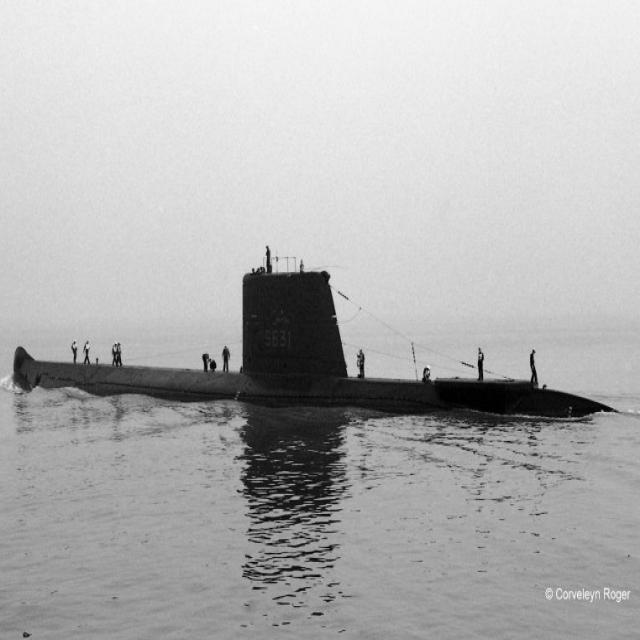submarine: (8, 271, 628, 414)
